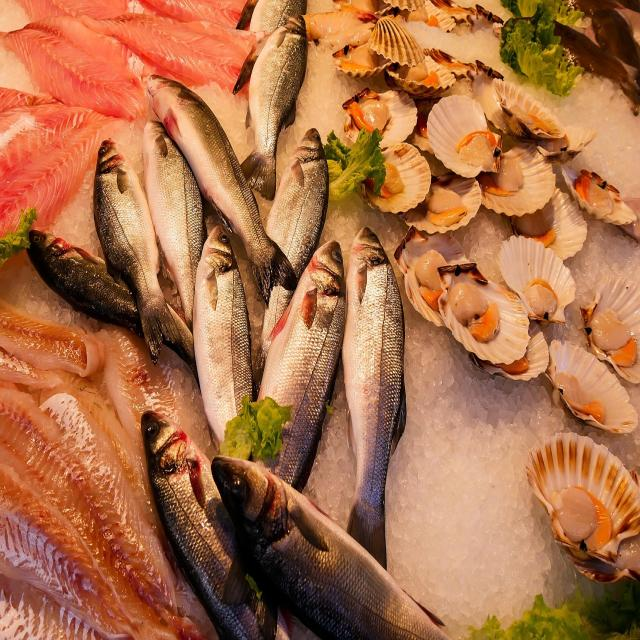pescado: (335, 222, 416, 570), (84, 132, 186, 363)
